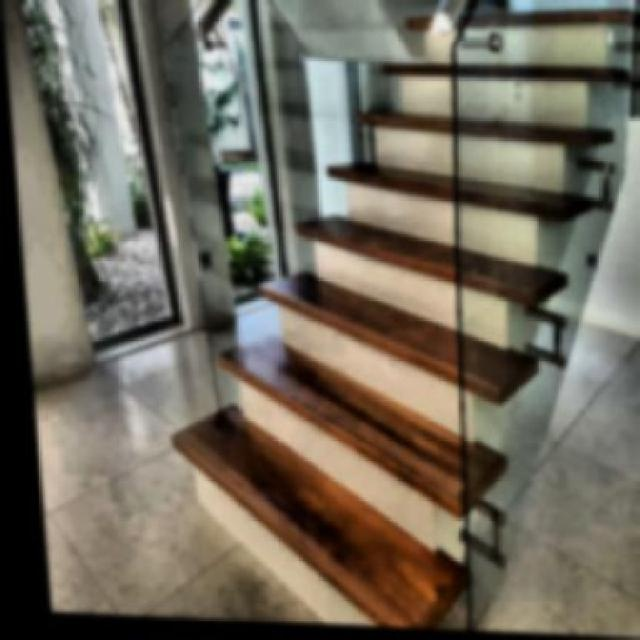stair: (134, 0, 640, 637)
